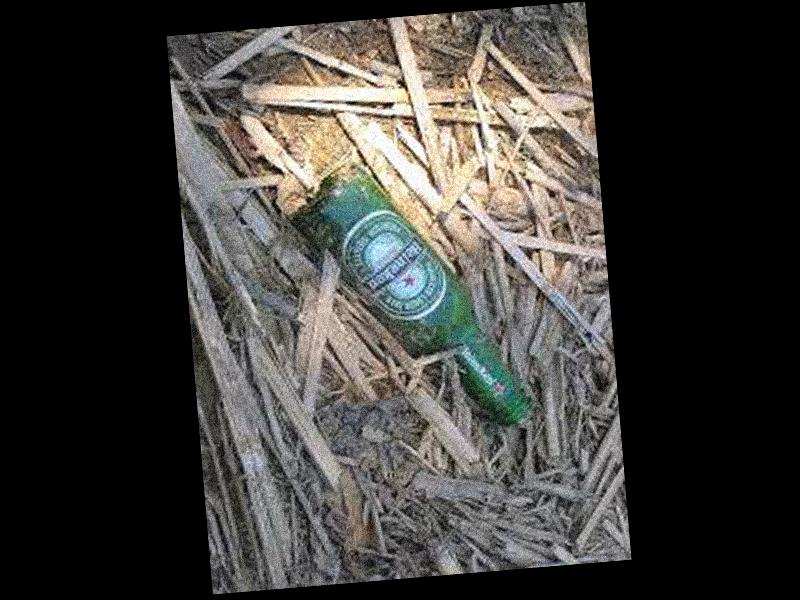Beer: (290, 151, 531, 445)
